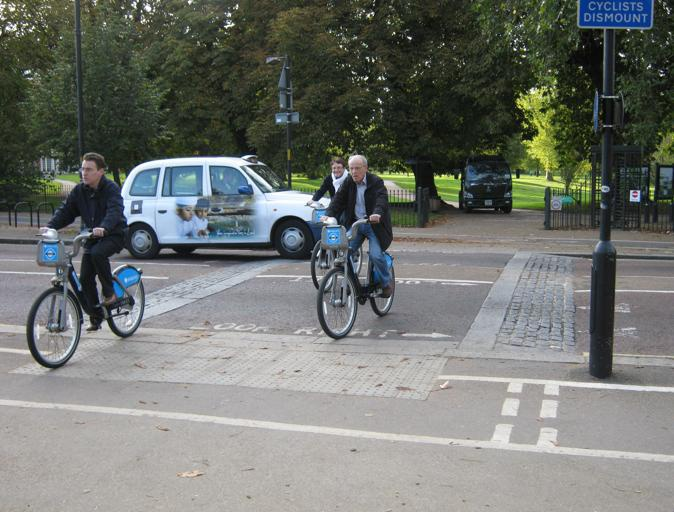non-vehicle: (22, 226, 148, 373), (311, 210, 397, 339), (303, 197, 364, 293)
